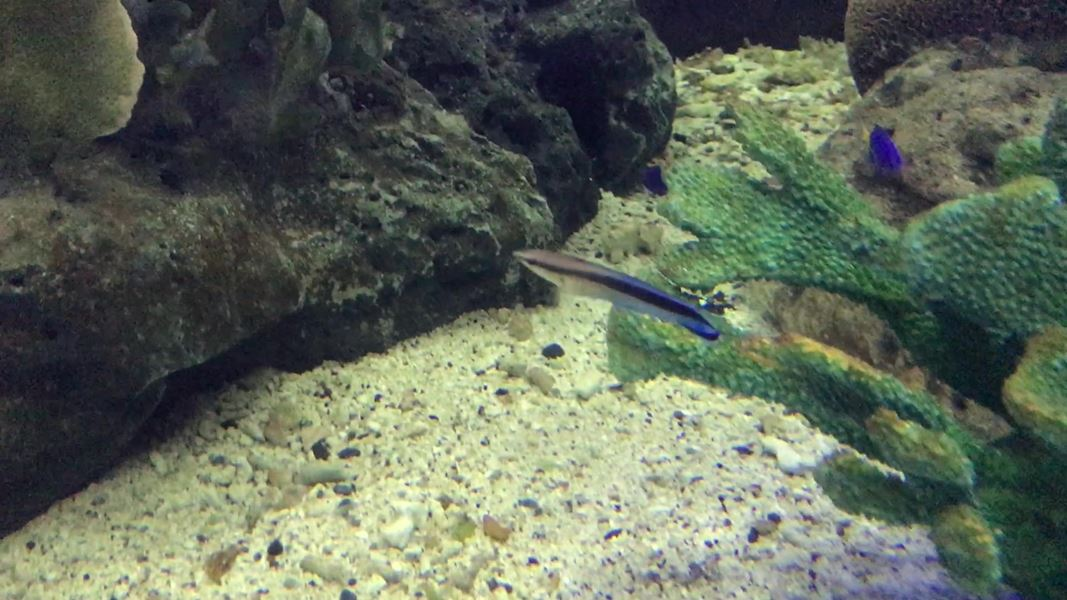Bluesteak cleaner wrasse: (500, 240, 720, 363)
